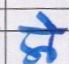e_matra: (36, 11, 58, 29)
